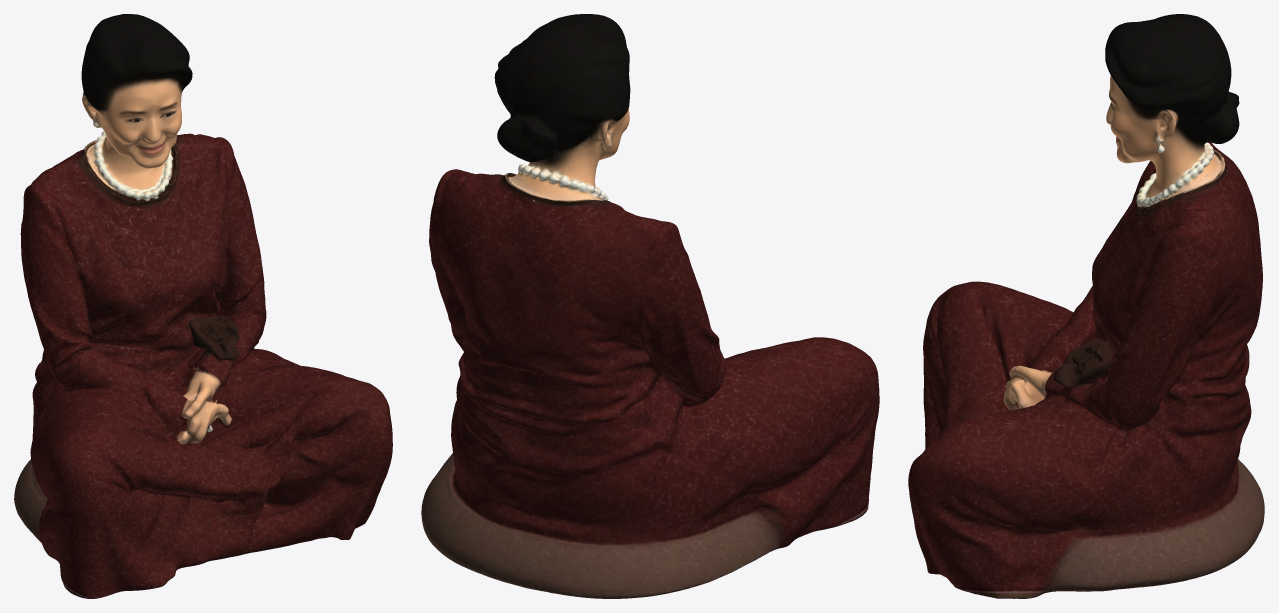
Rendered from Meshy_AI_Elegant_Pearl_Portrai_1025173157_texture-v1-compressed.glb.
3 renders of one model, left to right at view 1: azimuth 30°, elevation 25°; view 2: azimuth 150°, elevation 25°; view 3: azimuth 270°, elevation 25°, orthographic. The views are drawn at different scales.
Parts seen in each view (by area): view 1: mesh_0; view 2: mesh_0; view 3: mesh_0.
Boxes of the visible parts, x1,y1,x2,y2 form: mesh_0: (14, 14, 392, 598); mesh_0: (421, 14, 879, 598); mesh_0: (908, 14, 1264, 598).
Size of the model in its own units: 1.4 by 1.9 by 1.23.
Materials: 1 (1 with a texture image).
